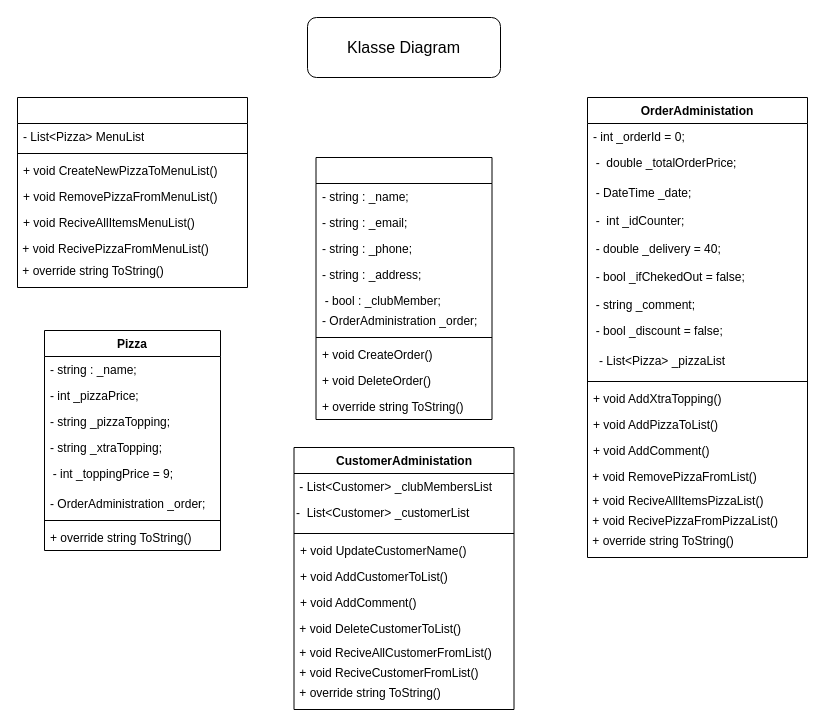
The diagram is 825 pixels wide and 727 high, and some of its shapes have lost their labels. Each missing label, with the box of its shape:
Customer: (315, 156, 492, 420)
MenuAdministation: (16, 96, 248, 288)
